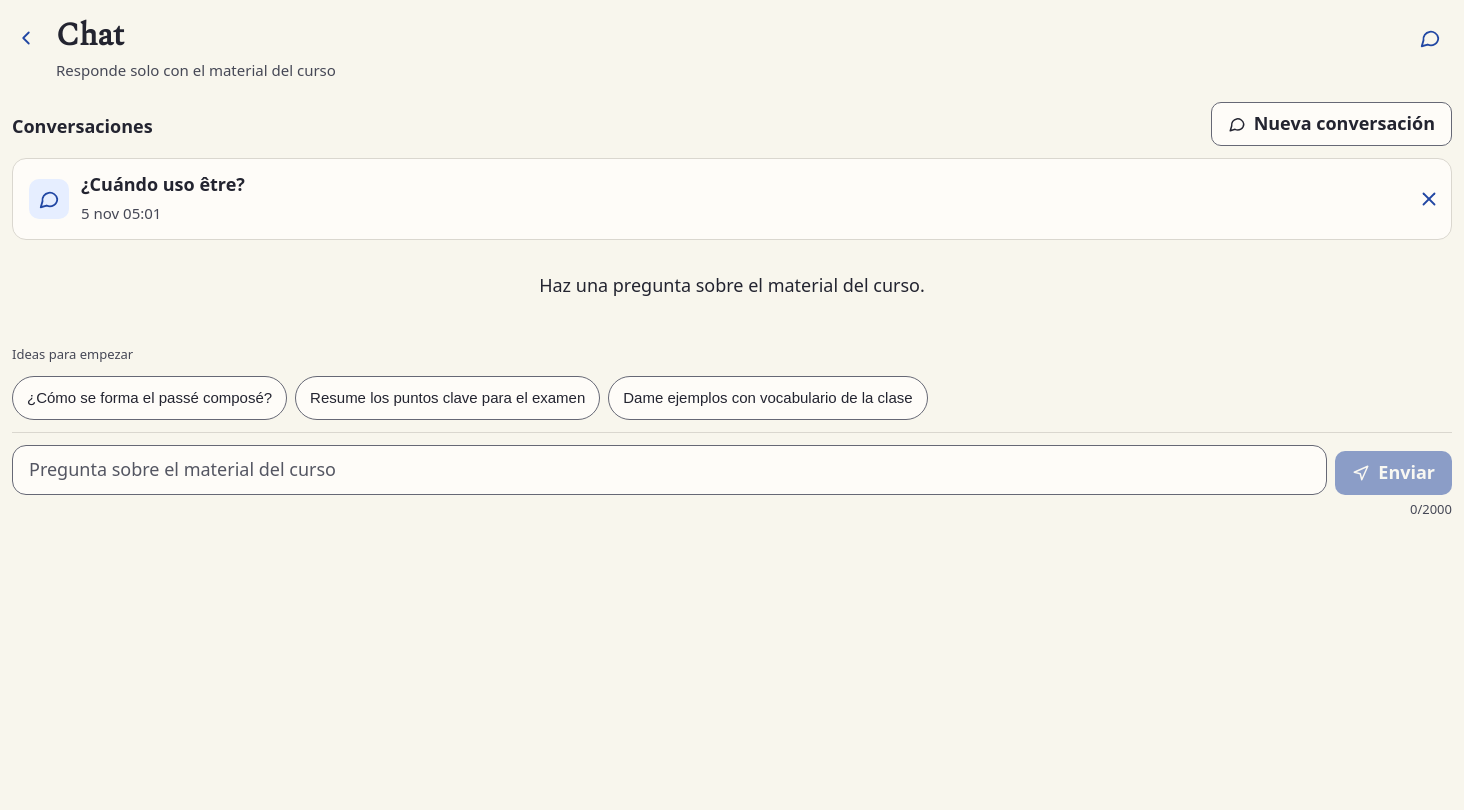
Test case: un segundo envío se ignora mientras hay una pregunta en curso
Type "¿Cuándo uso être?" into the text box labelled "Pregunta" at point(670, 470), box [12, 445, 1327, 495]
Then press Enter
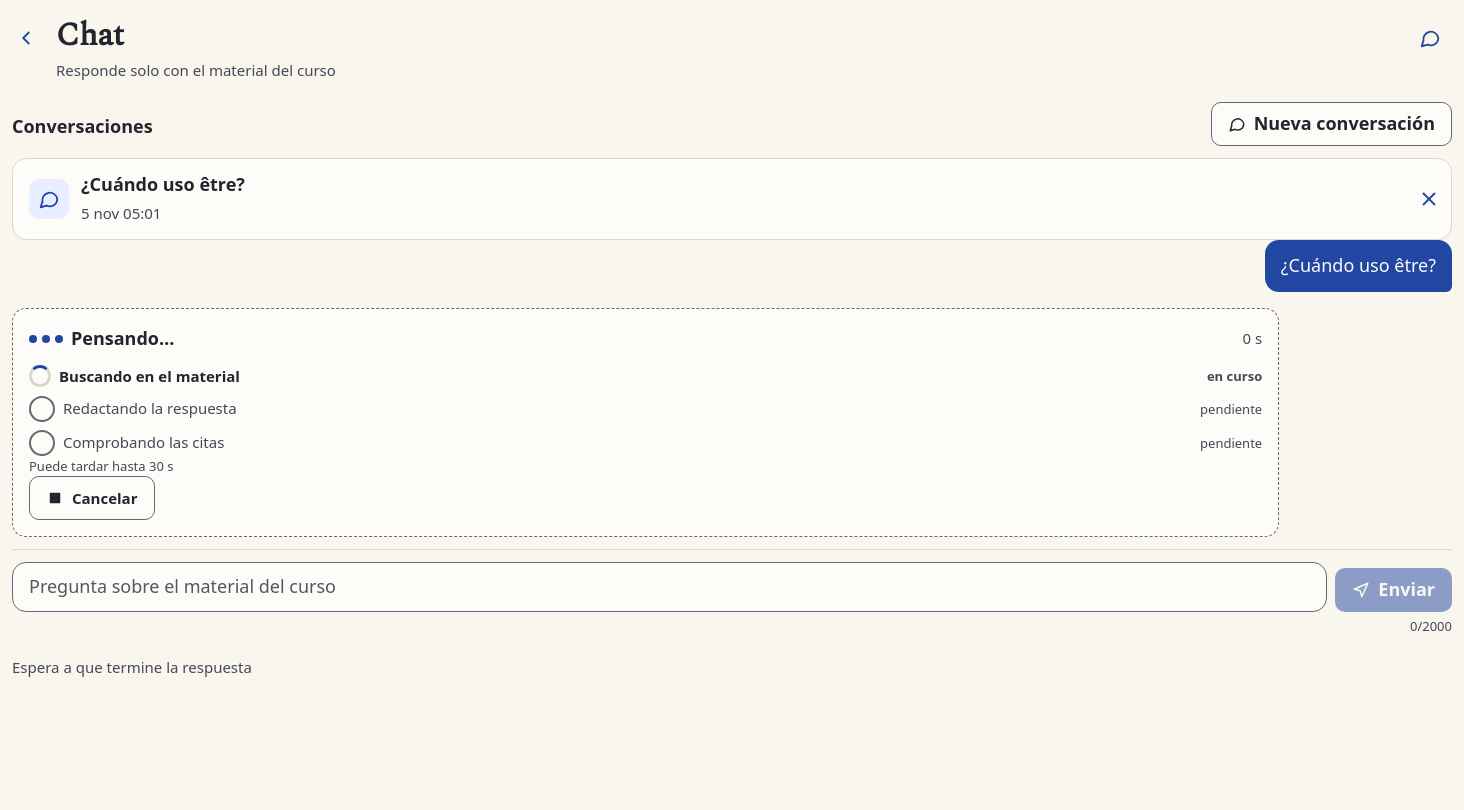
Expected: the text box labelled "Pregunta" is disabled, [12, 562, 1327, 612]
Submit the form named "Pregunta", box [12, 549, 1452, 644]
Click the button "Cancelar" at point(92, 498), box [29, 476, 154, 520]
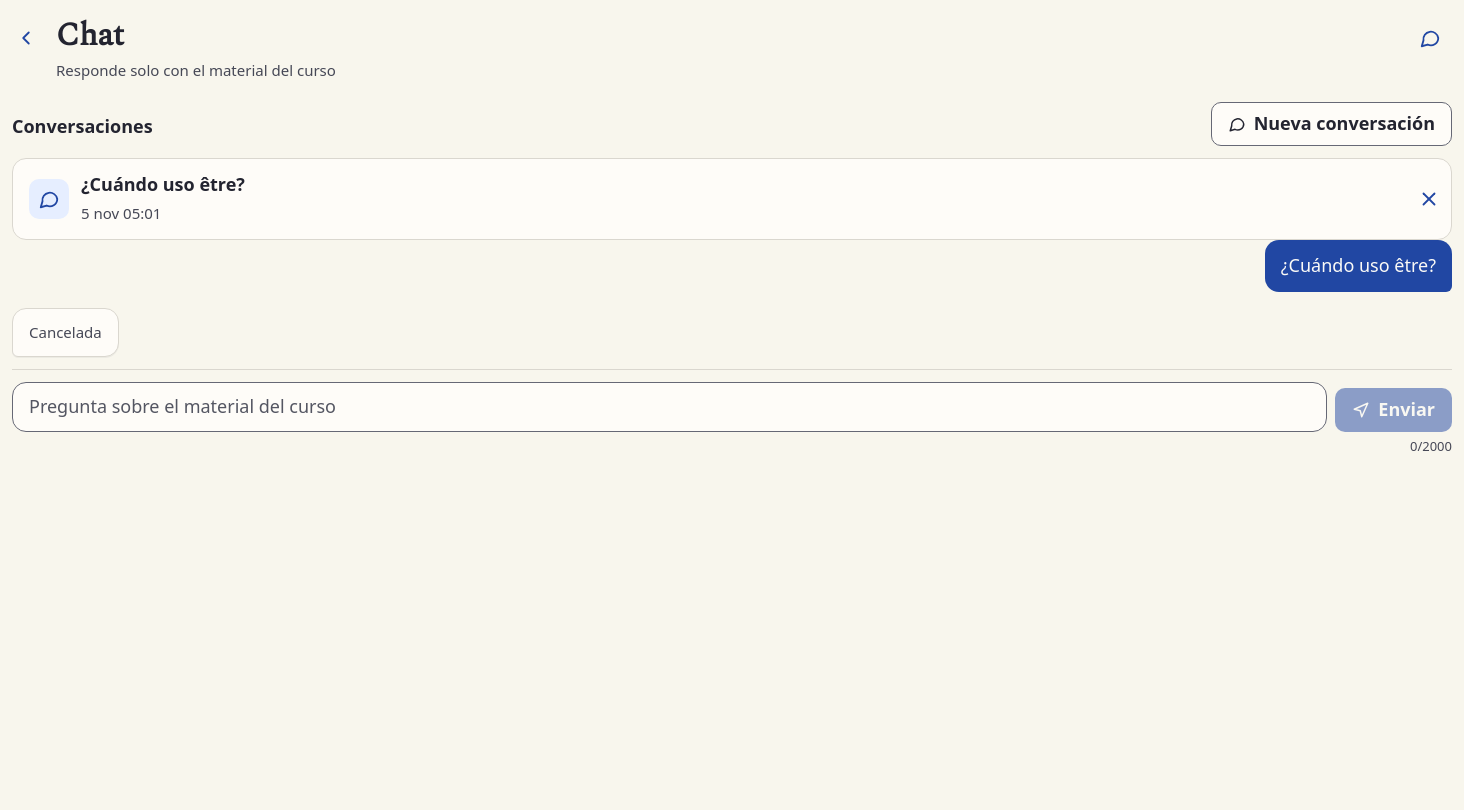
Expected: the text "Cancelada" is shown, [29, 321, 102, 344]
